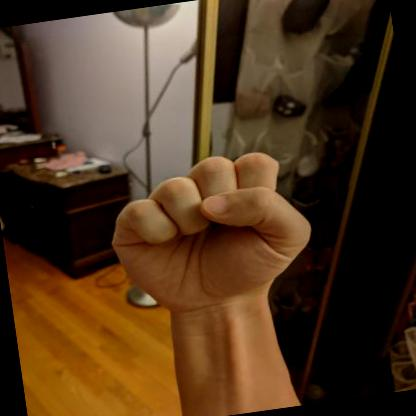S: (111, 152, 311, 319)
